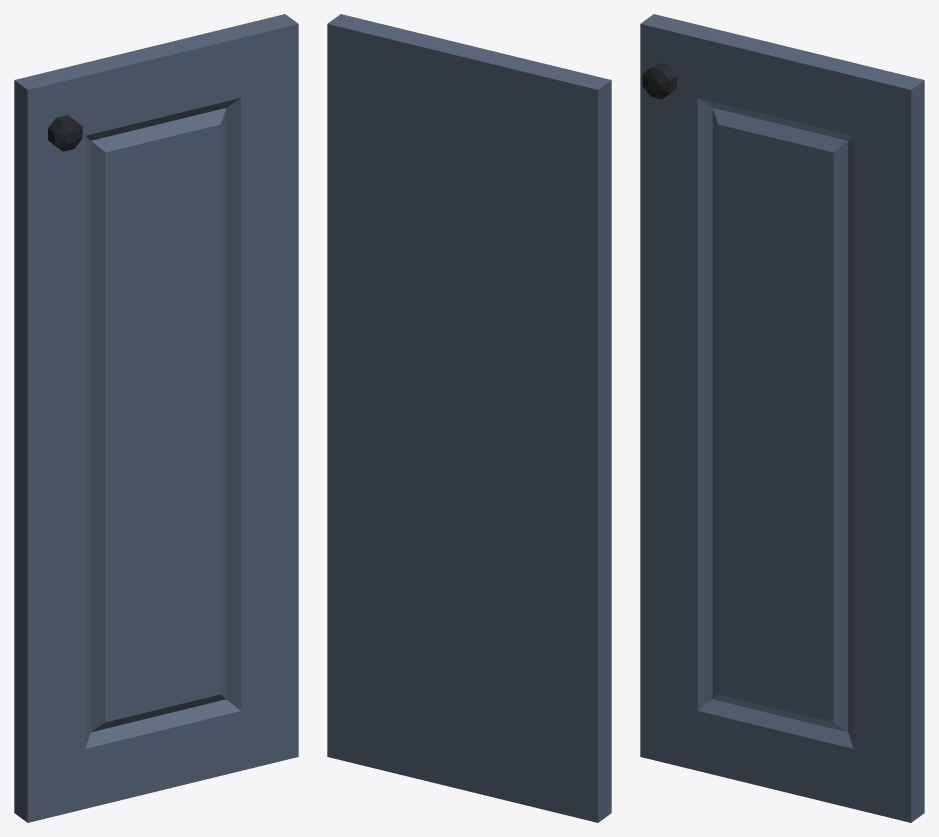
The model's file is Door3_C4_03.fbx.
3 renders of one model, left to right at view 1: azimuth 30°, elevation 25°; view 2: azimuth 150°, elevation 25°; view 3: azimuth 330°, elevation 25°, orthographic.
Parts seen in each view (by area): view 1: Door3_C4_03; view 2: Door3_C4_03; view 3: Door3_C4_03.
Boxes of the visible parts, x1=… form: Door3_C4_03: x1=14, y1=14, x2=298, y2=822; Door3_C4_03: x1=327, y1=14, x2=611, y2=822; Door3_C4_03: x1=640, y1=14, x2=924, y2=822.
Bounding box in the file's own units: 29 × 75 × 5.19.
